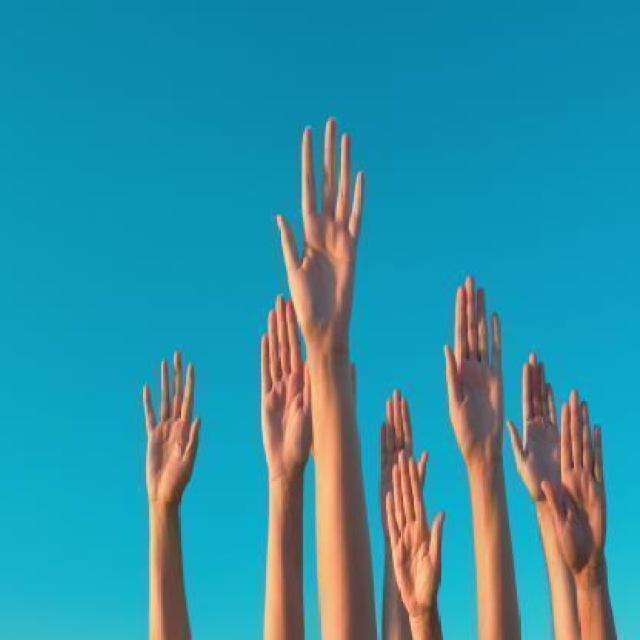hand_noglove: (276, 117, 364, 345), (542, 392, 609, 576), (444, 276, 505, 459), (260, 292, 314, 480), (385, 450, 447, 612), (143, 348, 202, 507), (507, 353, 562, 504), (378, 388, 429, 550)
